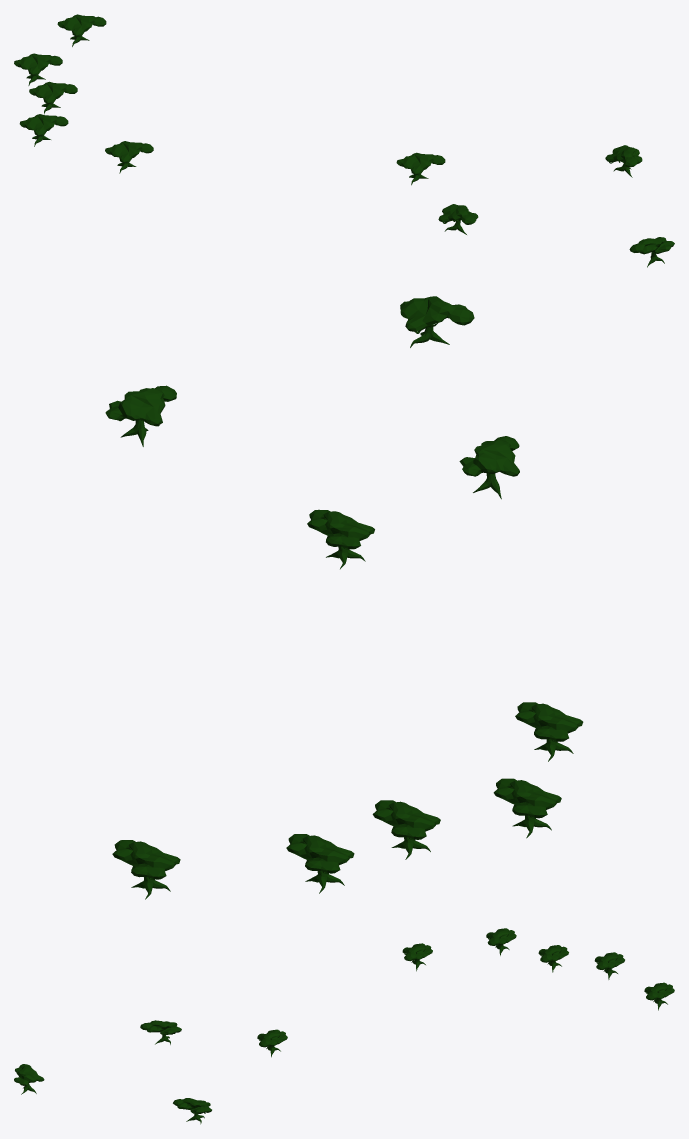
File: Tree_2_Summer.glb
3 views of the same model, one above another, from view 1: azimuth 30°, elevation 25°; view 2: azimuth 150°, elevation 25°; view 3: azimuth 270°, elevation 25° (orthographic). The views are drawn at different scales.
Visible parts, largest first — view 1: Tree_2_Summer.010; view 2: Tree_2_Summer.010; view 3: Tree_2_Summer.010.
Part boxes in pixels (<box>): Tree_2_Summer.010: <box>14,14,674,267</box>; Tree_2_Summer.010: <box>105,296,583,899</box>; Tree_2_Summer.010: <box>14,928,674,1124</box>.
Size of the model in its own units: 112 by 6.48 by 172.
